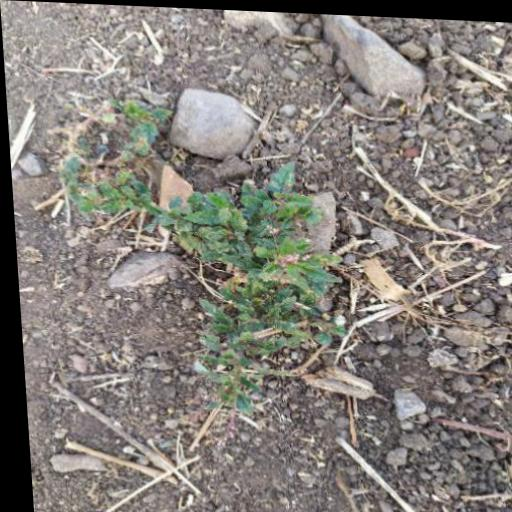weed: (131, 176, 379, 420)
